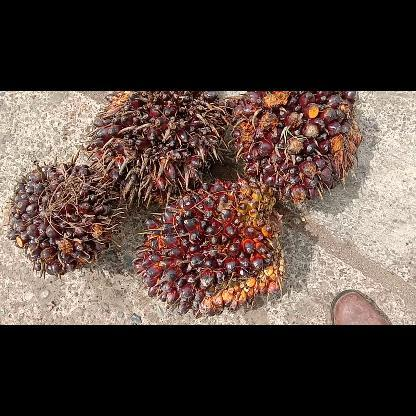Kurang masak: (128, 177, 290, 319), (81, 91, 235, 209), (226, 91, 364, 207), (7, 160, 129, 278)
